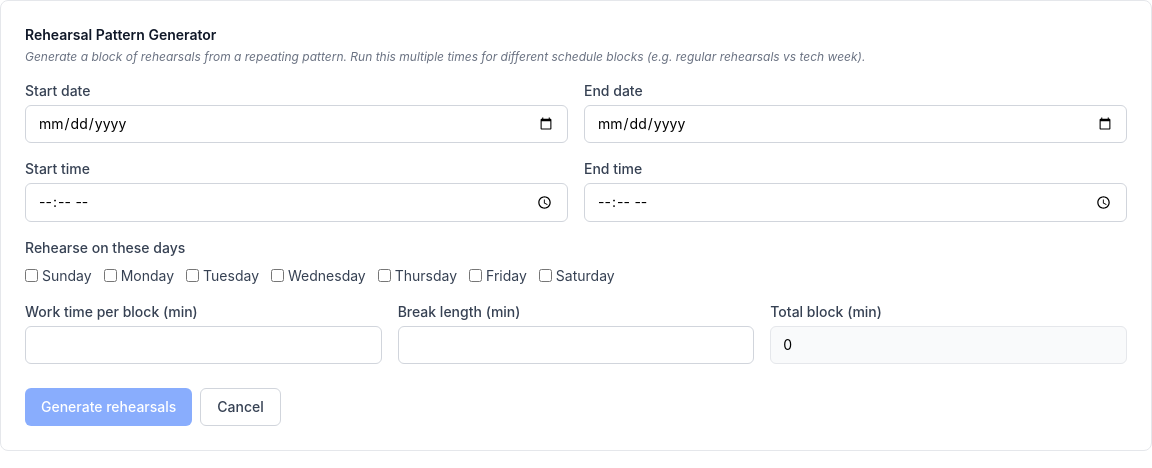
Test: RehearsalPatternCreator › auto-sets end time to match start time when end time is empty
The width and height of the screenshot is (1152, 468).
Type "19:00" into the time field below "Start time" at (296,202), box [25,183,568,222]
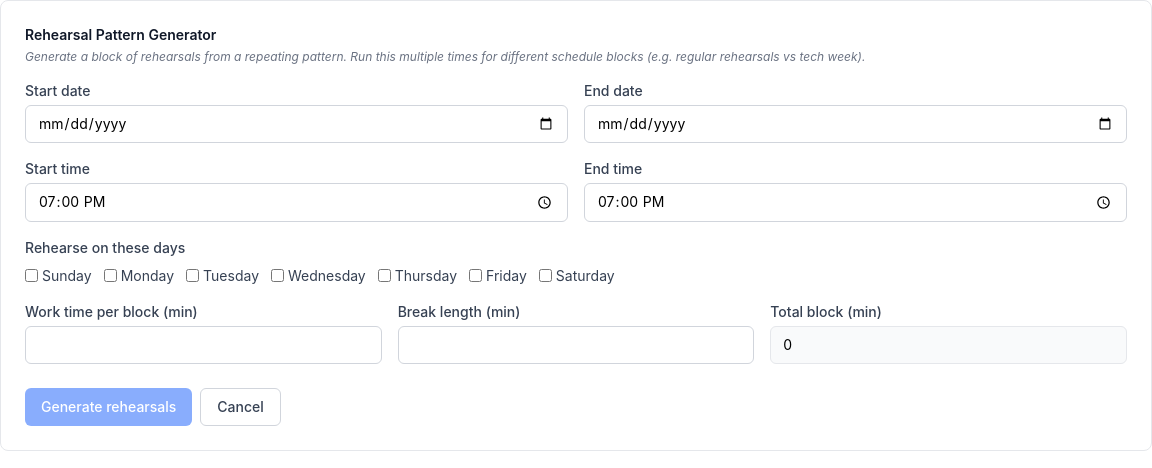
Check: the time field below "End time" holds "19:00", box [584,183,1127,222]
